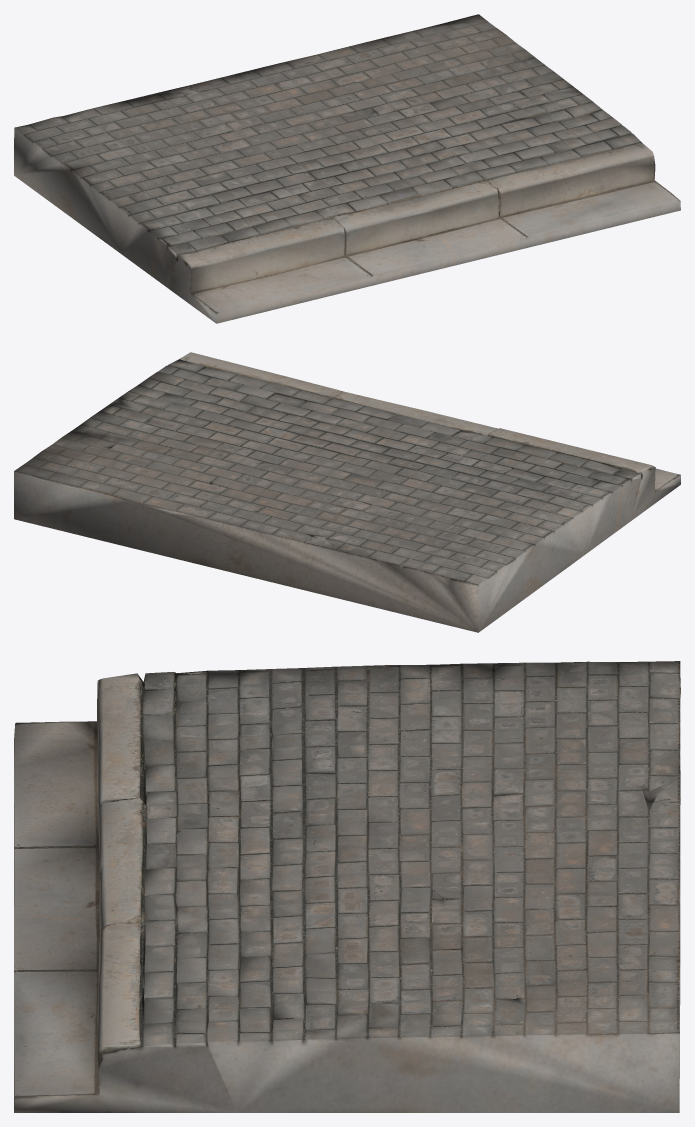
Rendered from PX_Sidewalk_05_LOD4.fbx.
3 renders of one model, top to bottom at view 1: azimuth 30°, elevation 25°; view 2: azimuth 150°, elevation 25°; view 3: azimuth 270°, elevation 25°, orthographic. The views are drawn at different scales.
Visible parts, largest first — view 1: PX_Sidewalk_05_LOD4; view 2: PX_Sidewalk_05_LOD4; view 3: PX_Sidewalk_05_LOD4.
Boxes of the visible parts, left/top/right/bottom form: PX_Sidewalk_05_LOD4: left=14, top=14, right=680, bottom=323; PX_Sidewalk_05_LOD4: left=14, top=352, right=680, bottom=632; PX_Sidewalk_05_LOD4: left=14, top=661, right=680, bottom=1112.
Bounding box in the file's own units: 308 × 30.62 × 232.
